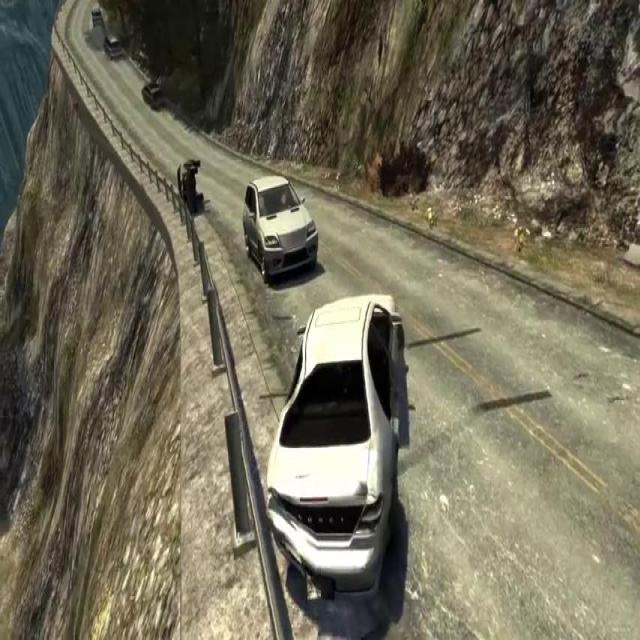severe: (176, 156, 205, 216)
